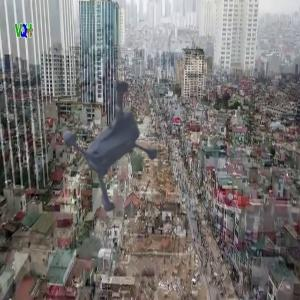drone: (36, 54, 181, 199)
